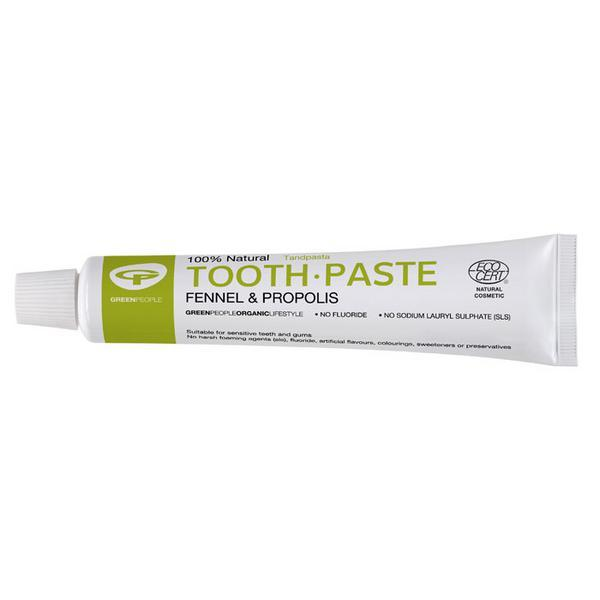toothpaste: (6, 212, 600, 388)
